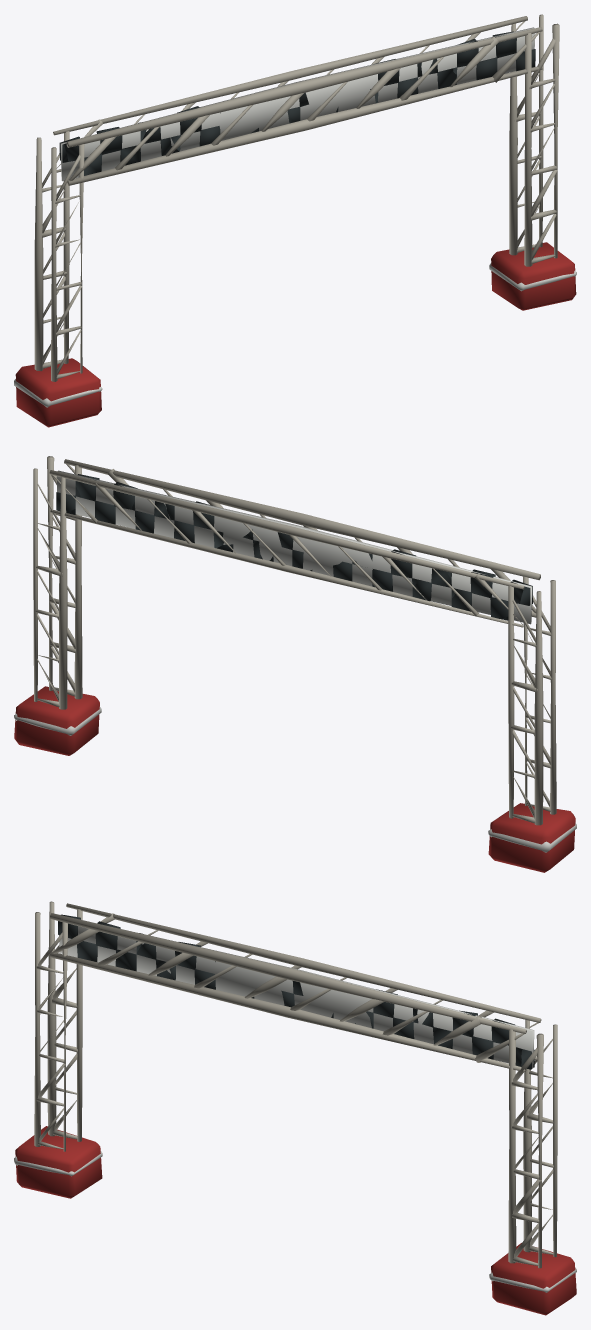
Rendered from start_gantry.glb.
The picture shows the model from 3 angles, top to bottom: view 1: azimuth 30°, elevation 25°; view 2: azimuth 150°, elevation 25°; view 3: azimuth 330°, elevation 25°; orthographic projection.
Parts seen in each view (by area): view 1: Body.014; view 2: Body.014; view 3: Body.014.
Boxes of the visible parts, box(x1,y1,x2,y2) form: Body.014: box(14, 14, 576, 427); Body.014: box(14, 456, 576, 872); Body.014: box(14, 901, 576, 1315).
Size of the model in its own units: 8.21 by 4.1 by 0.86.
